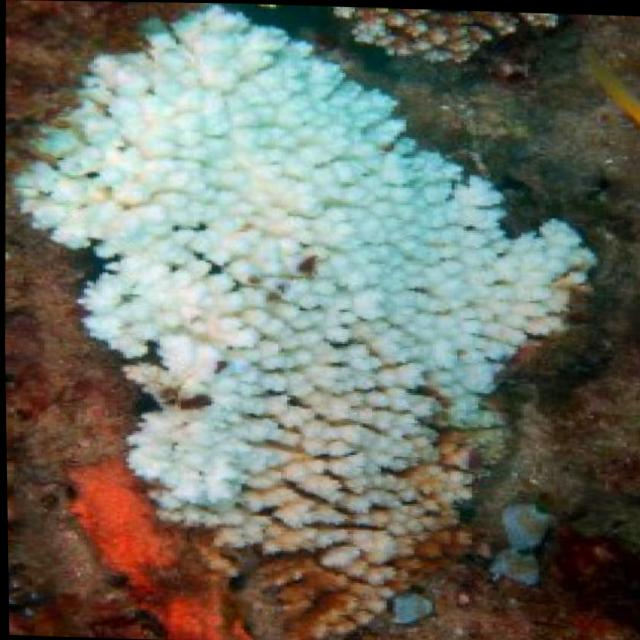Bleached Coral: (0, 16, 606, 597)
